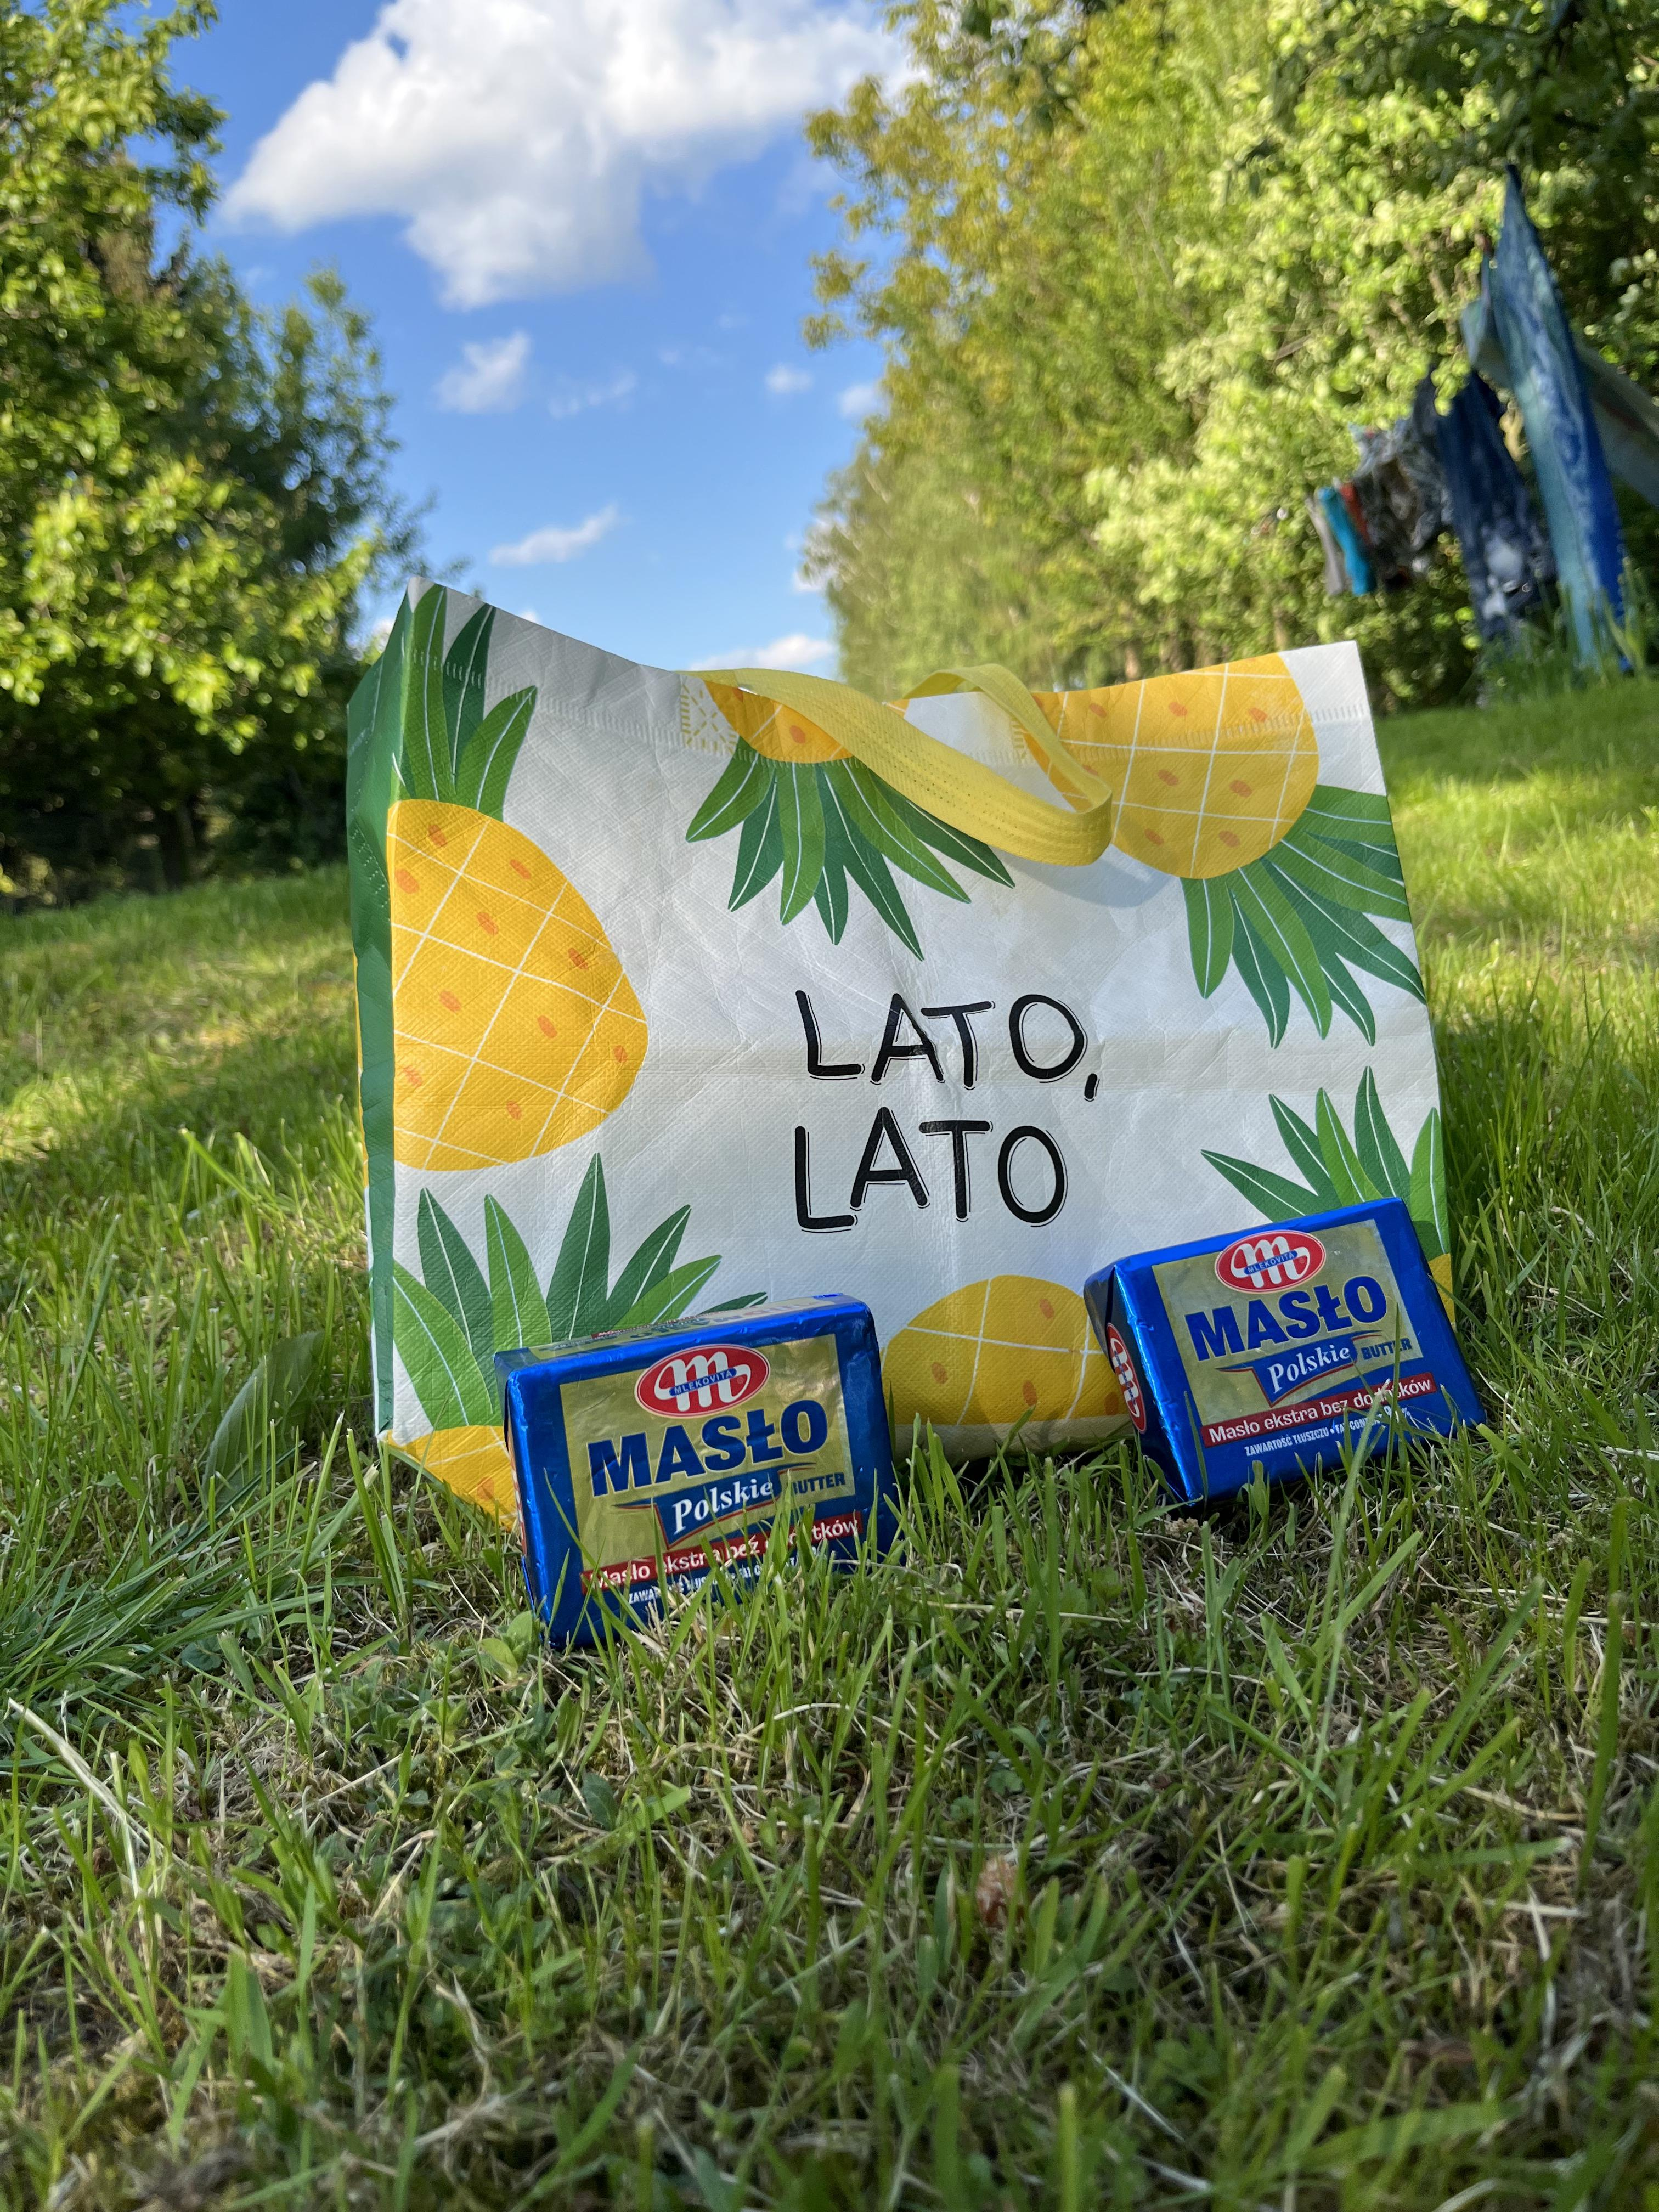Butter: (505, 1306, 901, 1578), (1086, 1207, 1462, 1479)
